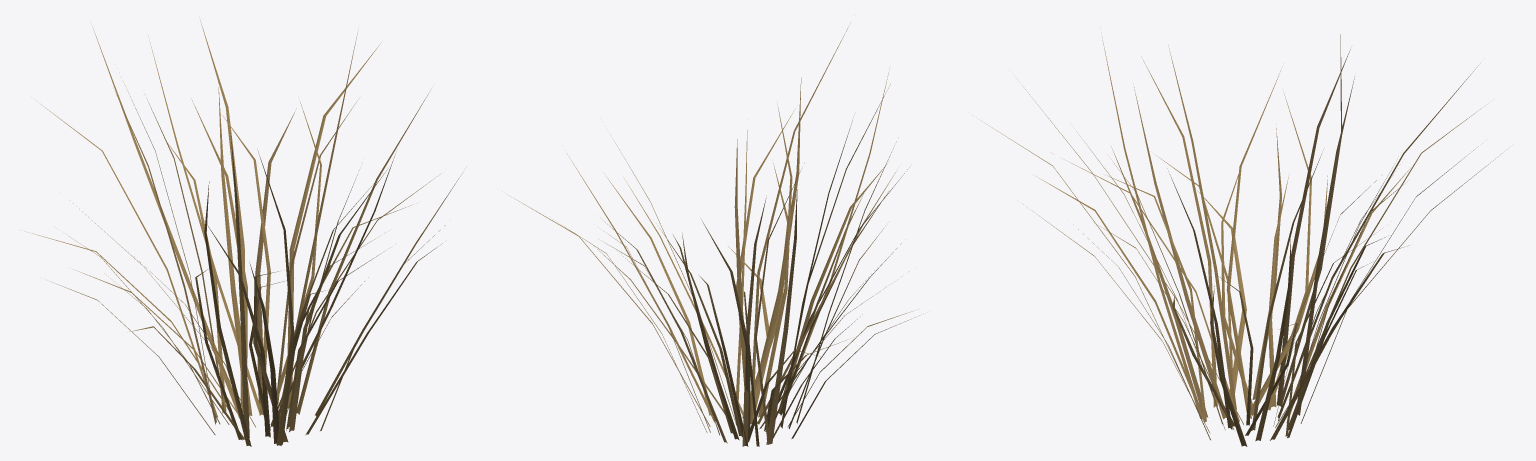
File: SM_CN_Grass_B_LOD1.glb
3 views of the same model, side by side, from view 1: azimuth 30°, elevation 25°; view 2: azimuth 150°, elevation 25°; view 3: azimuth 270°, elevation 25° (orthographic). The views are drawn at different scales.
Parts seen in each view (by area): view 1: SM_CN_Grass_B_LOD1; view 2: SM_CN_Grass_B_LOD1; view 3: SM_CN_Grass_B_LOD1.
Part boxes in pixels (x1,y1,x2,y2): SM_CN_Grass_B_LOD1: [25, 19, 462, 446]; SM_CN_Grass_B_LOD1: [509, 23, 919, 446]; SM_CN_Grass_B_LOD1: [982, 34, 1507, 446].
Bounding box in the file's own units: 0.7639 × 0.64 × 0.88.
Materials: 1 (1 with a texture image).
